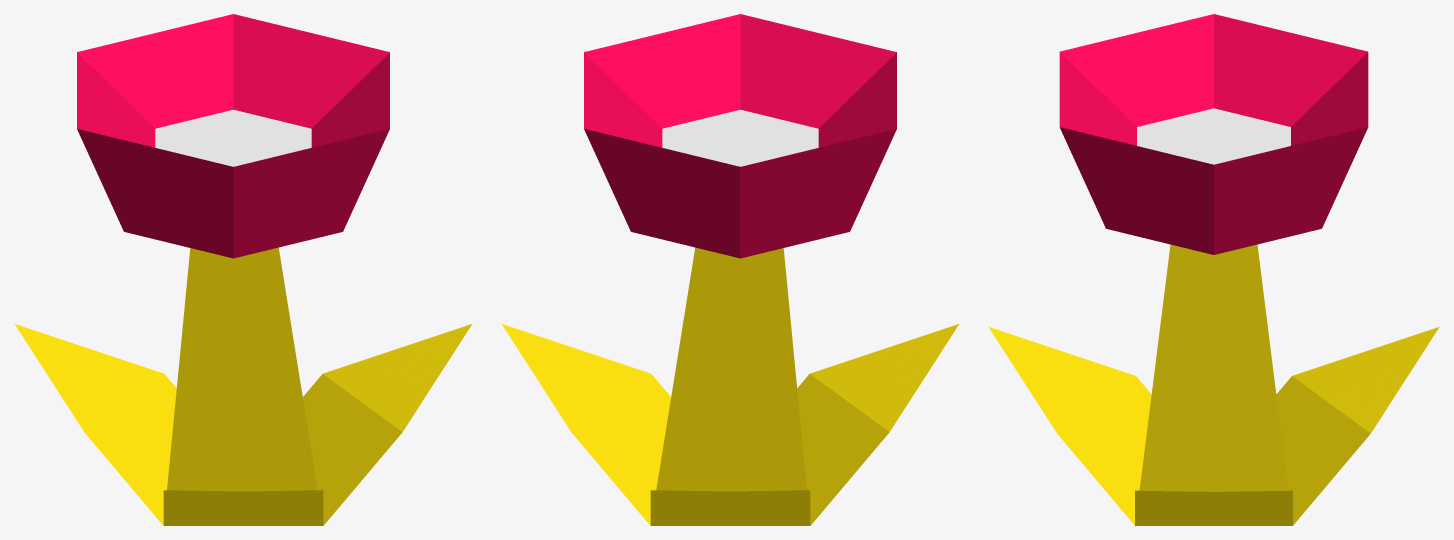
Rendered from R3_flower_9.fbx.
3 renders of one model, left to right at view 1: azimuth 30°, elevation 25°; view 2: azimuth 150°, elevation 25°; view 3: azimuth 270°, elevation 25°, orthographic.
Parts seen in each view (by area): view 1: flower_purpleC; view 2: flower_purpleC; view 3: flower_purpleC.
Boxes of the visible parts, x1,y1,x2,y2 form: flower_purpleC: [15, 14, 471, 525]; flower_purpleC: [502, 14, 958, 525]; flower_purpleC: [988, 14, 1439, 525].
Bounding box in the file's own units: 1.81 × 1.83 × 1.81.
